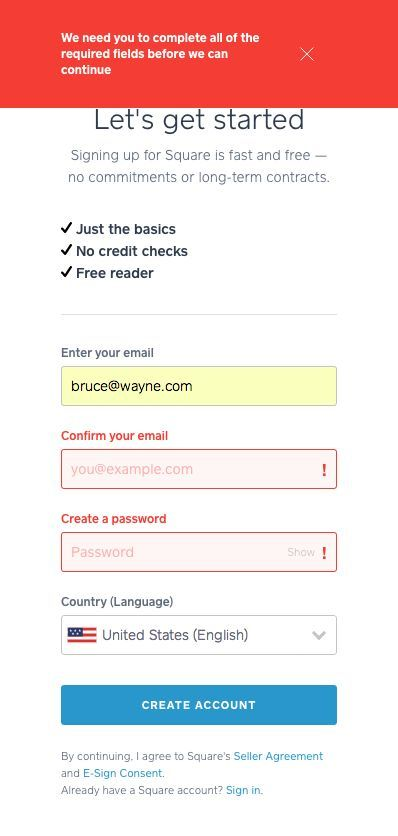error_field: (61, 447, 339, 491), (60, 531, 340, 574)
error_message: (60, 32, 261, 76), (59, 429, 167, 442), (61, 513, 169, 525)
